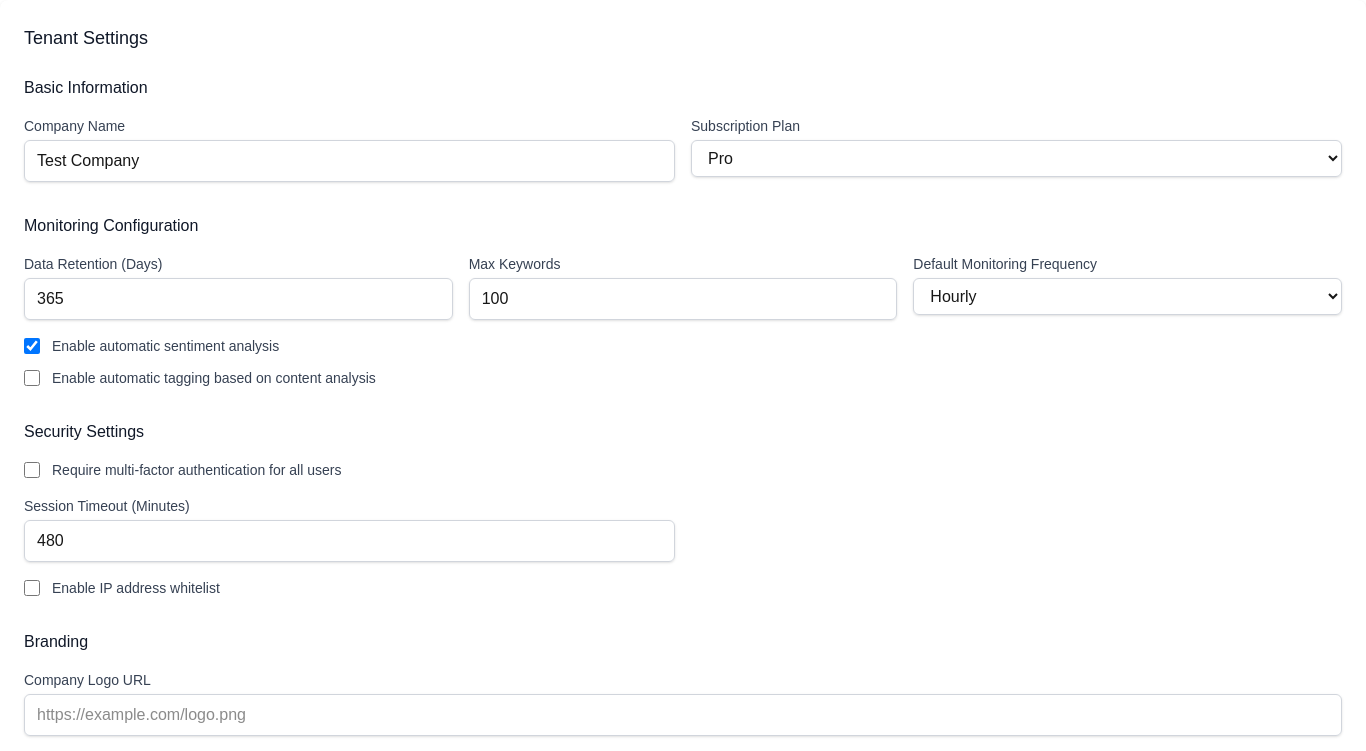
Test: TenantSettings › manages IP whitelist
This screenshot has width=1366, height=751.
Enable IP whitelist
Click the checkbox labelled "Enable IP address whitelist" at (32, 588), box [24, 580, 40, 596]
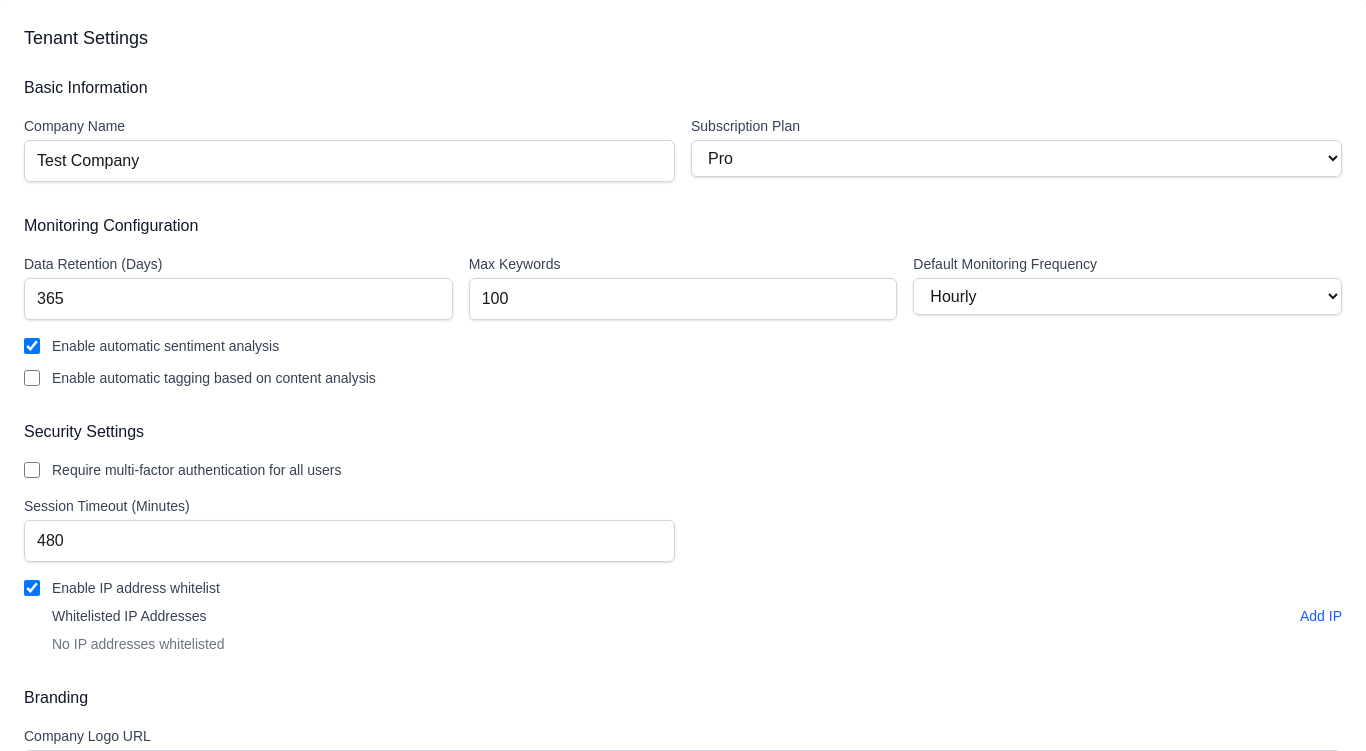
Expected: the checkbox labelled "Enable IP address whitelist" is checked, [24, 580, 40, 596]
Expected: the text "Whitelisted IP Addresses" is shown, [52, 606, 207, 626]
Expected: the button "Add IP" is shown, [1300, 606, 1342, 626]
